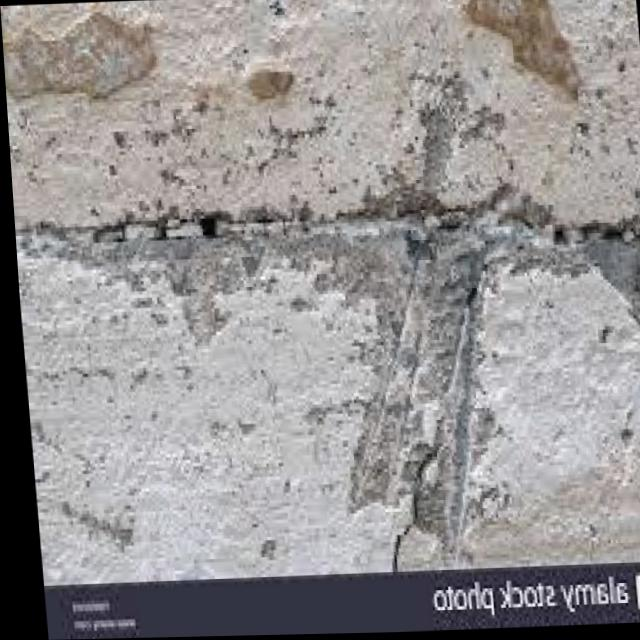Crack: (51, 173, 547, 301)
